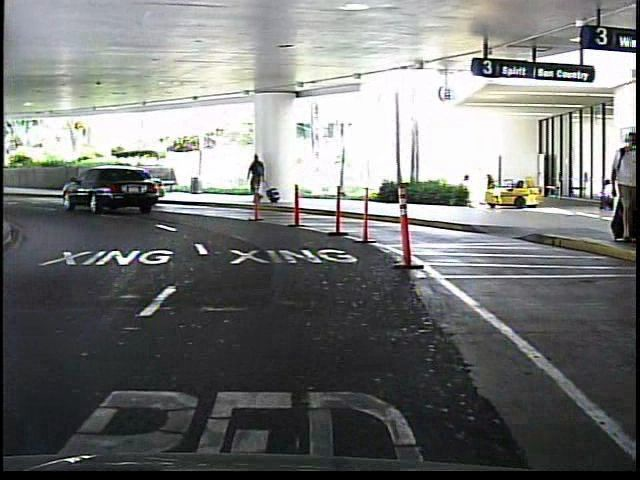person: (601, 114, 639, 246), (246, 151, 272, 209)
